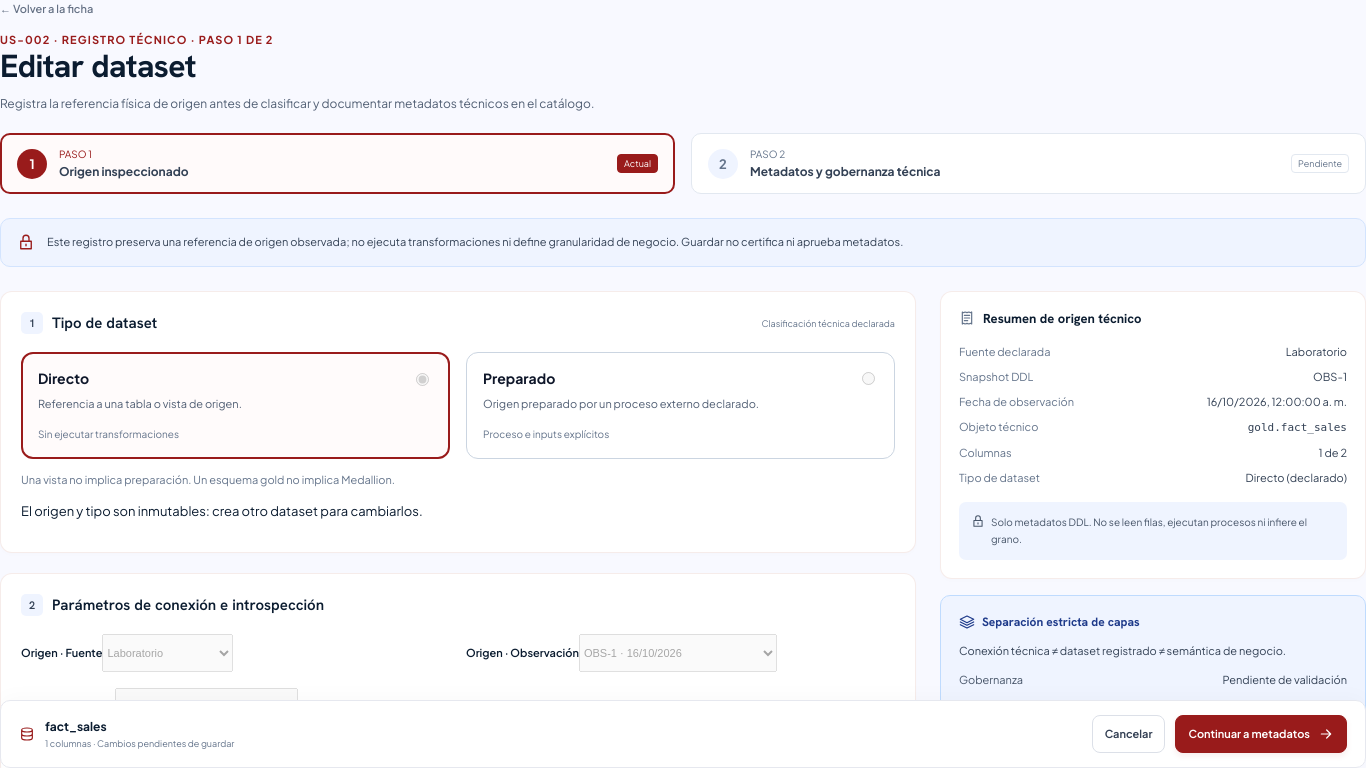
makes 412 reload exclusive and blocks edits, saves and repeated reload until it finishes
Click the button "Continuar a metadatos" at (1261, 734), box [1176,715,1347,753]
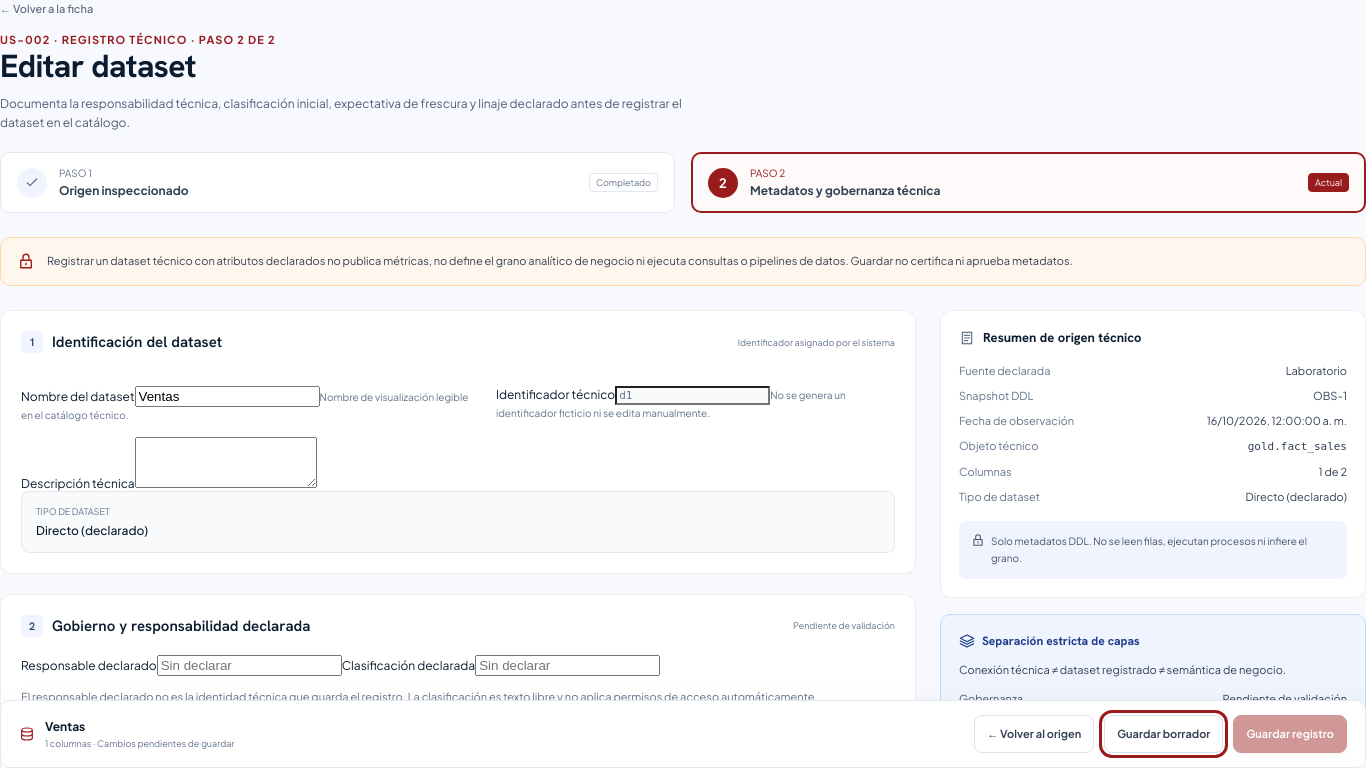
Type " local" into the field labelled "Nombre del dataset" at (227, 396), box [134,386,320,407]
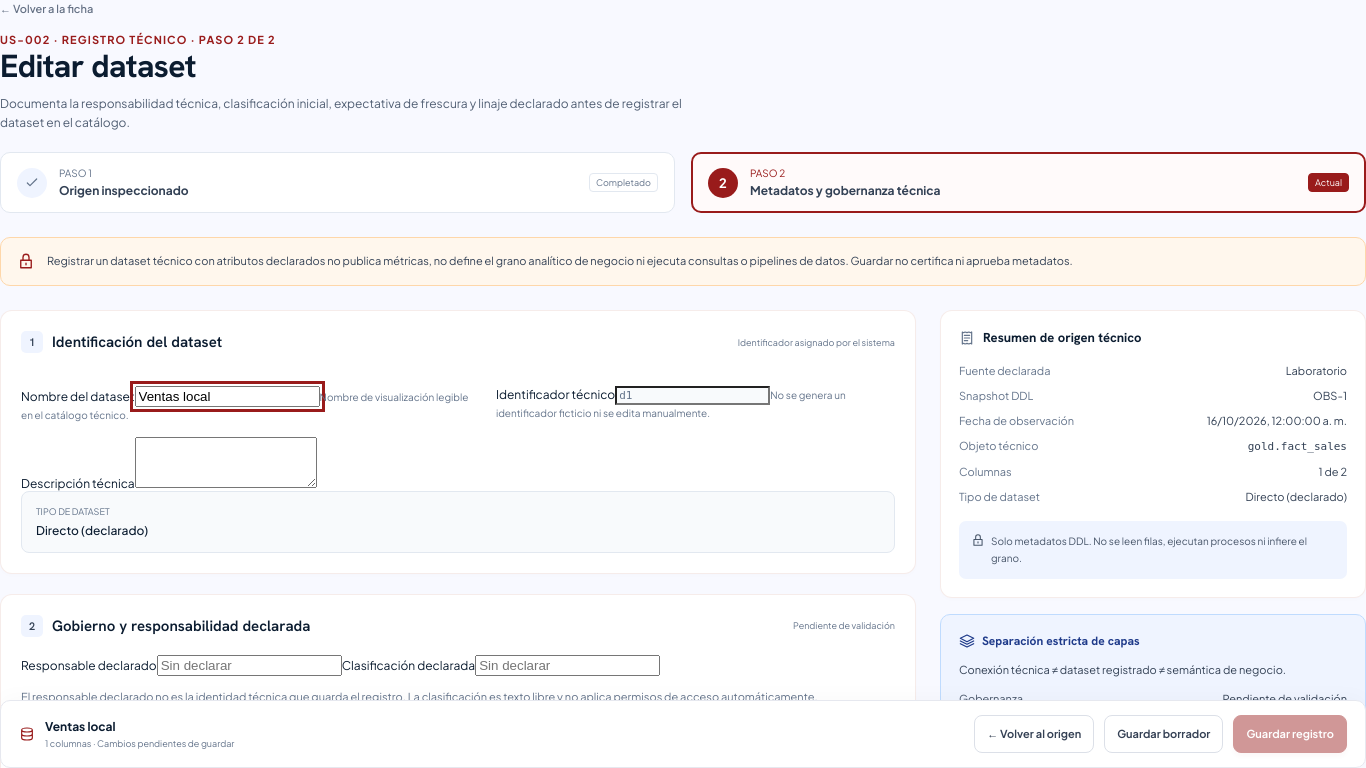
Click the button "Guardar borrador" at (1164, 734), box [1104,715,1223,753]
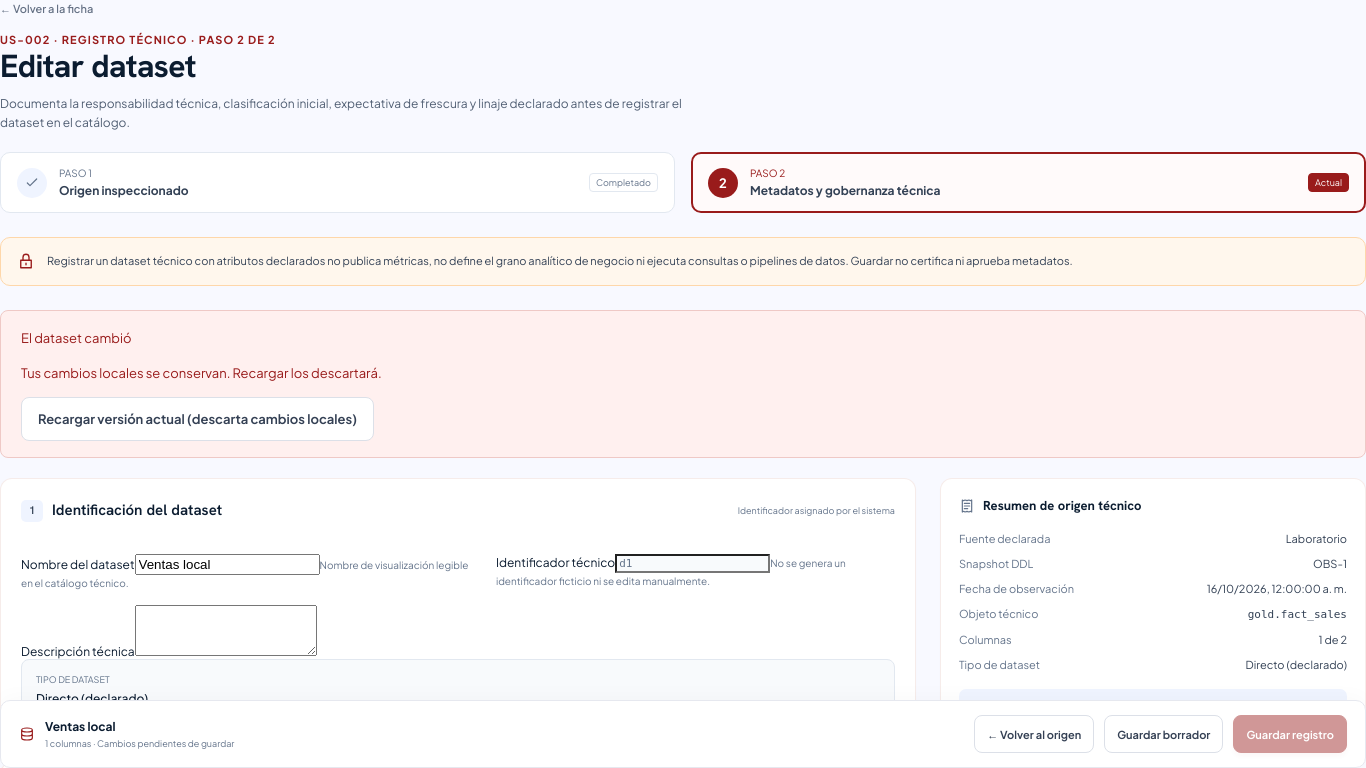
Click the button "Recargar versión actual (descarta cambios locales)" at (197, 419), box [21,397,374,441]
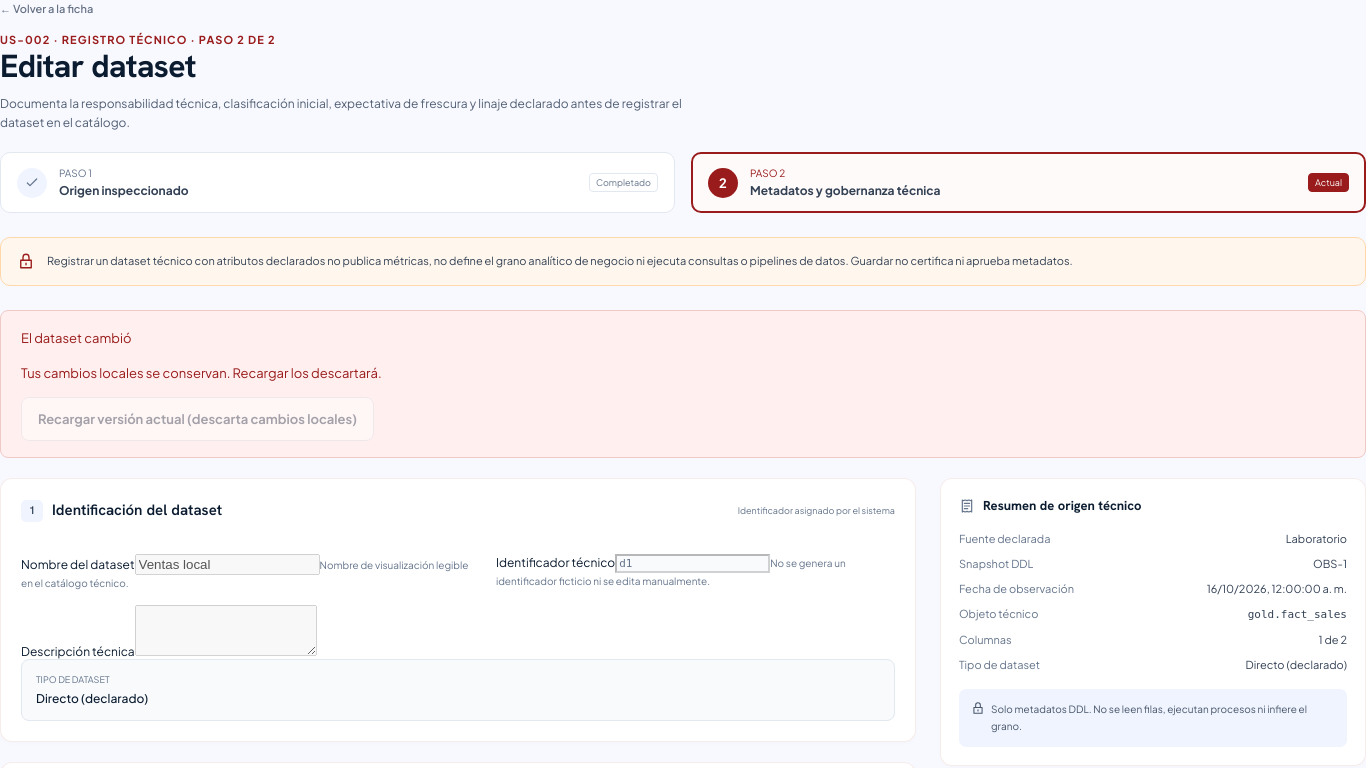
Expected: the field labelled "Nombre del dataset" is disabled, [134,554,320,575]
Now the button "Recargar versión actual (descarta cambios locales)" is disabled
Click the button "Recargar versión actual (descarta cambios locales)" at (197, 419), box [21,397,374,441]
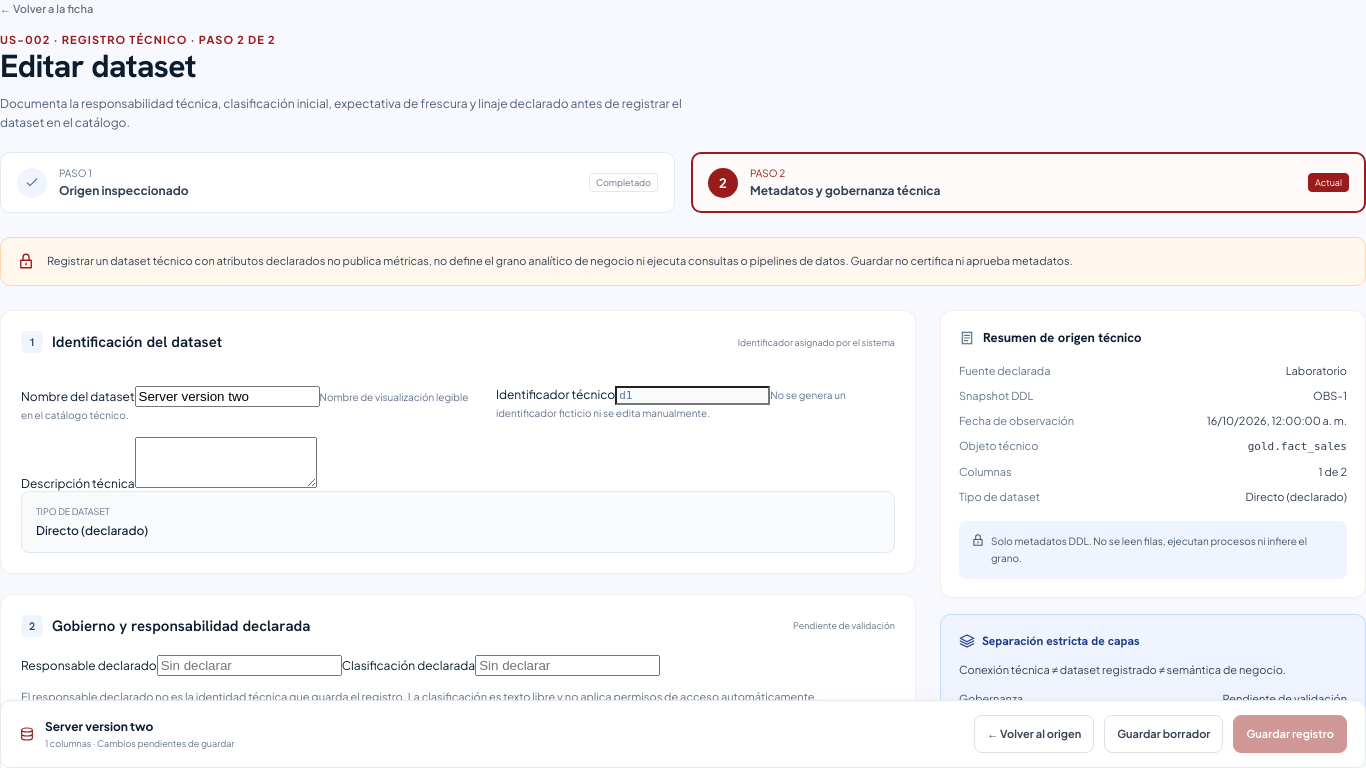
Expected: the field labelled "Nombre del dataset" is enabled, [134,386,320,407]
Now the field labelled "Nombre del dataset" holds "Server version two", box [134,386,320,407]
